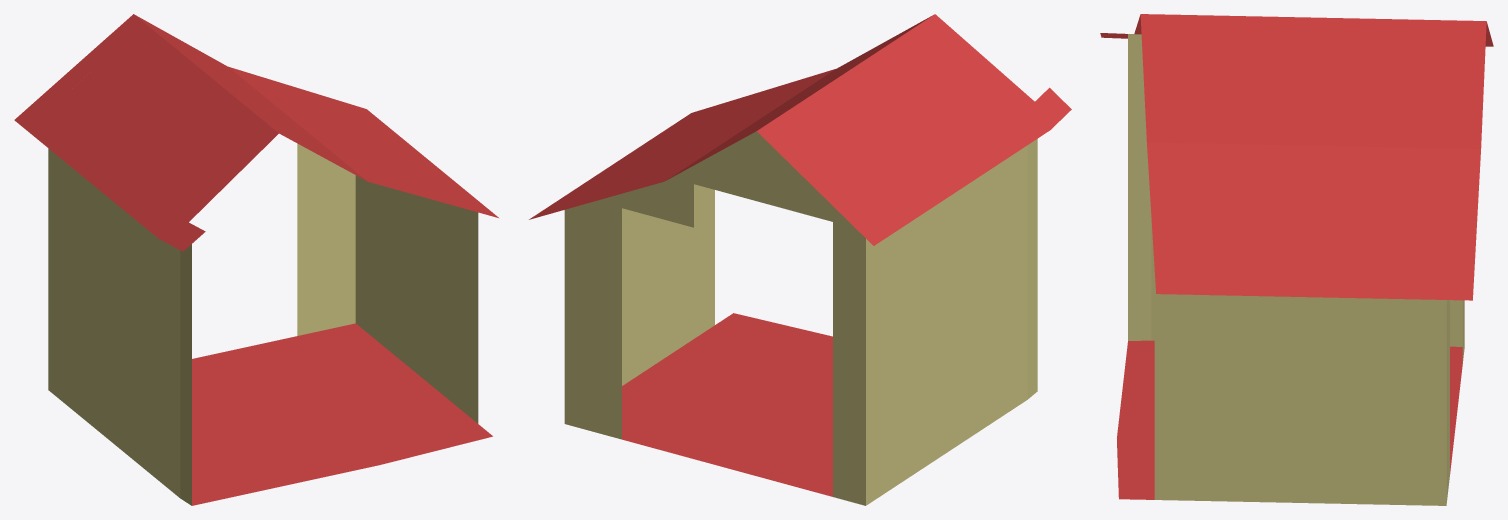
The picture shows the model from 3 angles, left to right: view 1: azimuth 30°, elevation 25°; view 2: azimuth 150°, elevation 25°; view 3: azimuth 270°, elevation 25°; orthographic projection. The views are drawn at different scales.
Bounding box in the file's own units: 12.12 × 10.65 × 11.24.
